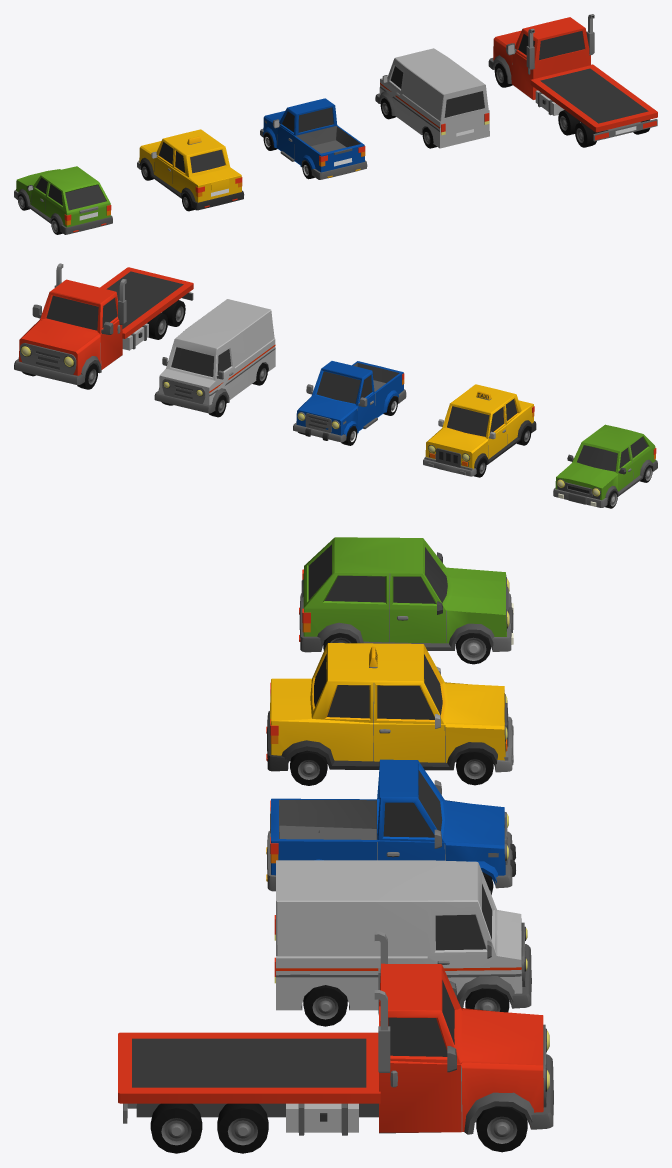
Rendered from Cars.fbx.
The picture shows the model from 3 angles, top to bottom: view 1: azimuth 30°, elevation 25°; view 2: azimuth 150°, elevation 25°; view 3: azimuth 270°, elevation 25°; orthographic projection. The views are drawn at different scales.
Parts seen in each view (by area): view 1: Truck 1, Van 1, Car 2, Car 3, Car 1, BL_Wheel.010.1, BL_Wheel.010; view 2: Truck 1, Van 1, Car 2, Car 3, Car 1, BL_Wheel.010.1, BL_Wheel.010; view 3: Truck 1, Van 1, Car 2, Car 1, Car 3, BR_Wheel.010.1, BR_Wheel.010, FR_Wheel.010, BR_Wheel.016, BR_Wheel.004, FR_Wheel.004, FR_Wheel (+1 smaller).
Part boxes in pixels (x1,y1,x2,y2): Truck 1: [488, 14, 657, 141]; Van 1: [375, 48, 489, 148]; Car 2: [137, 129, 244, 210]; Car 3: [260, 98, 367, 179]; Car 1: [14, 166, 112, 234]; BL_Wheel.010.1: [575, 122, 596, 147]; BL_Wheel.010: [558, 110, 580, 135]; Truck 1: [14, 263, 193, 384]; Van 1: [154, 299, 275, 413]; Car 2: [423, 384, 536, 476]; Car 3: [293, 361, 406, 442]; Car 1: [553, 424, 657, 507]; BL_Wheel.010.1: [162, 300, 185, 326]; BL_Wheel.010: [147, 313, 167, 339]; Truck 1: [118, 931, 553, 1135]; Van 1: [274, 860, 531, 1010]; Car 2: [266, 643, 513, 772]; Car 1: [299, 537, 513, 652]; Car 3: [266, 759, 515, 891]; BR_Wheel.010.1: [150, 1103, 202, 1153]; BR_Wheel.010: [217, 1103, 268, 1153]; FR_Wheel.010: [476, 1106, 527, 1152]; BR_Wheel.016: [303, 985, 347, 1026]; BR_Wheel.004: [290, 750, 327, 785]; FR_Wheel.004: [456, 751, 493, 785]; FR_Wheel: [456, 633, 490, 664].
Size of the model in its own units: 22.64 by 3.13 by 7.68.
